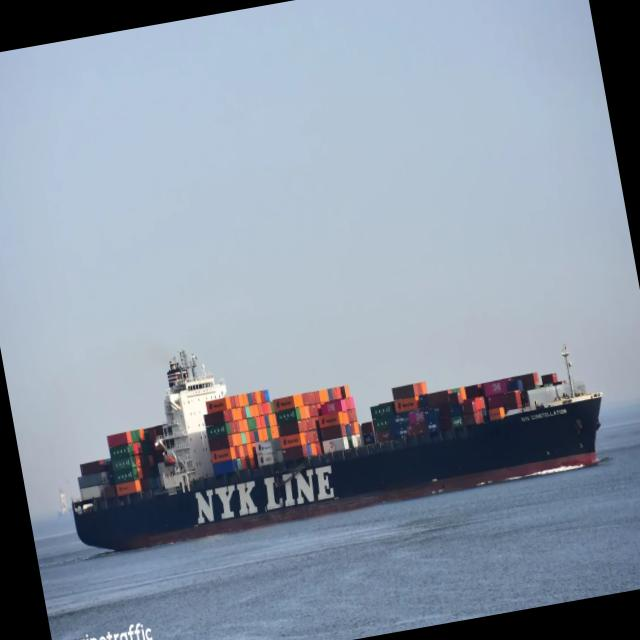Cargo: (71, 346, 601, 550)
